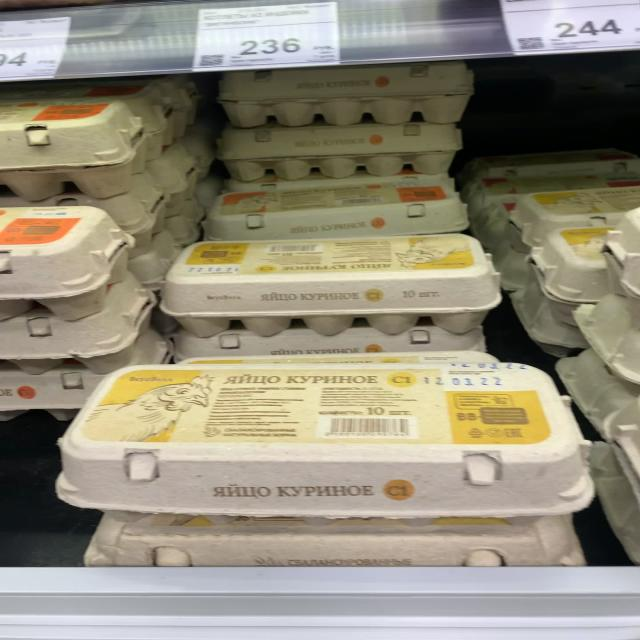egg box: (51, 360, 598, 515), (158, 231, 502, 337), (198, 173, 472, 242)
